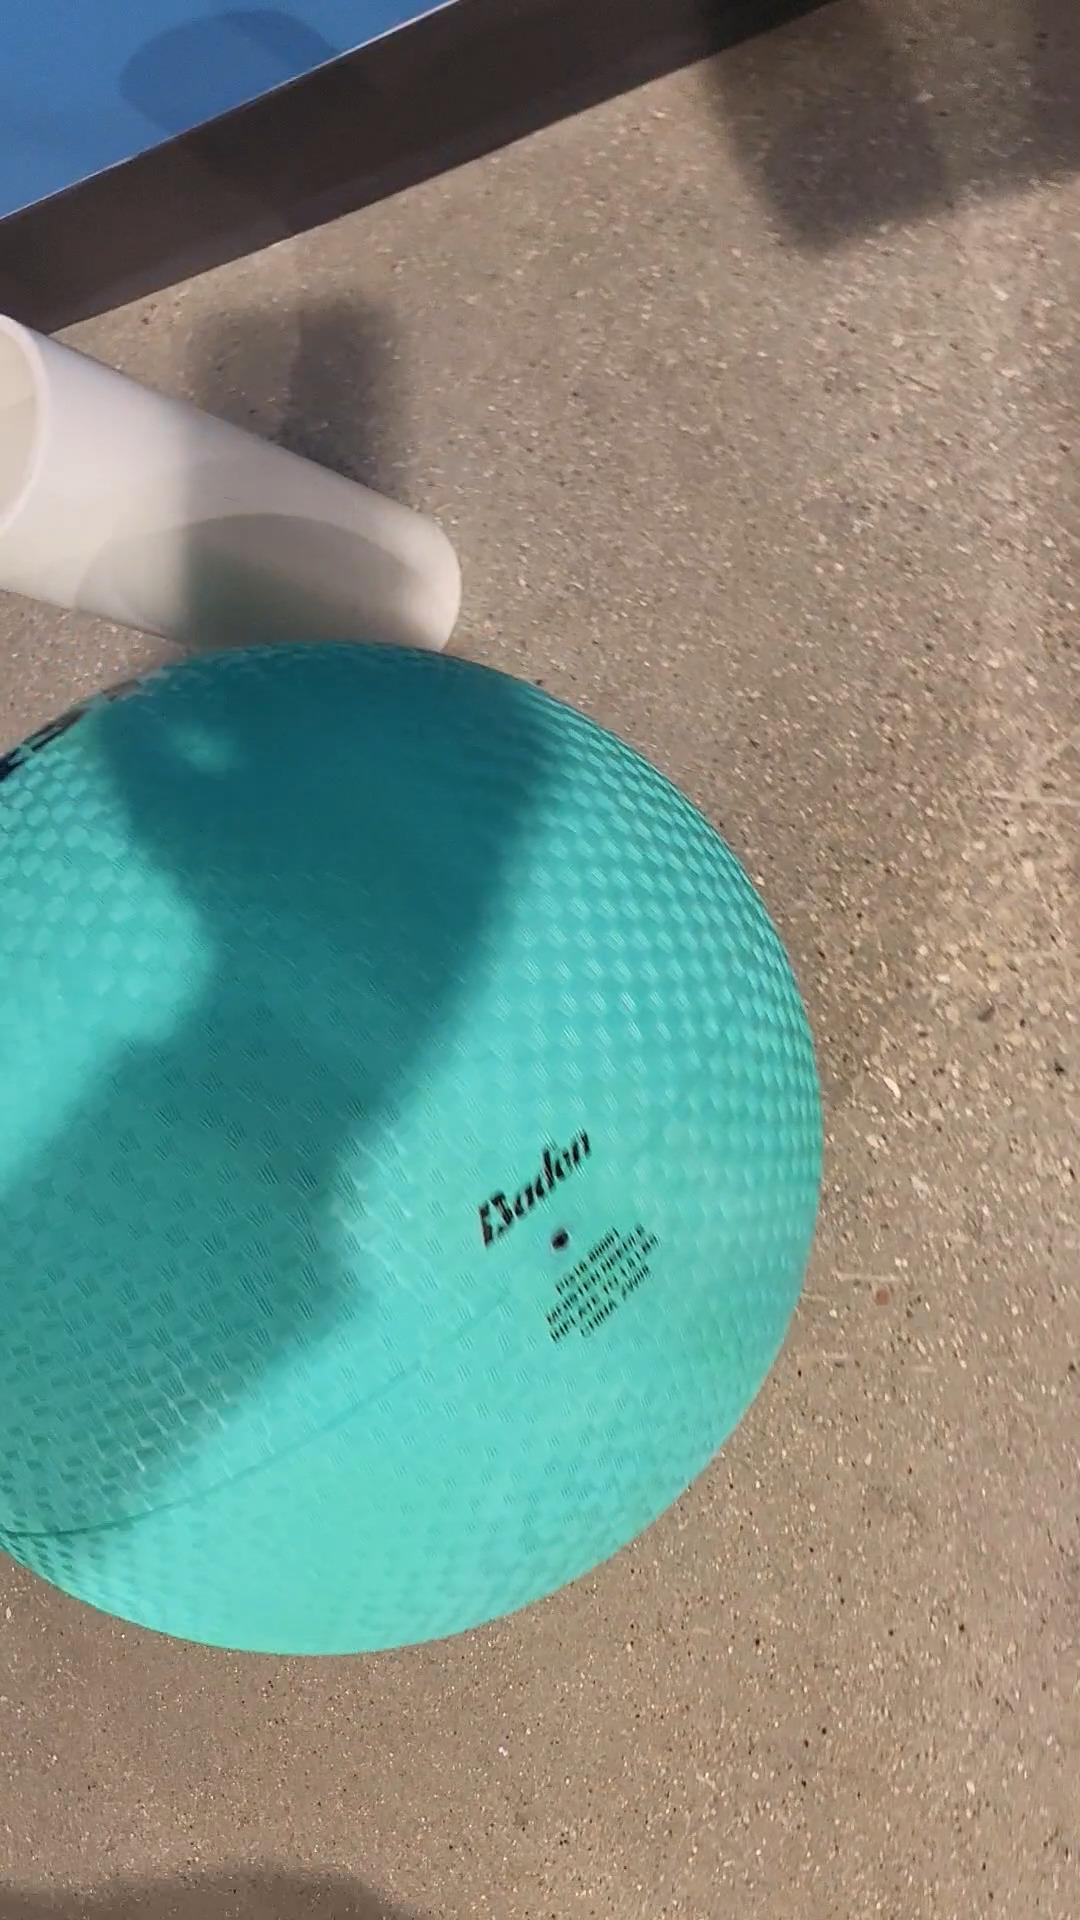algae: (0, 608, 833, 1660)
coral: (0, 303, 476, 670)
